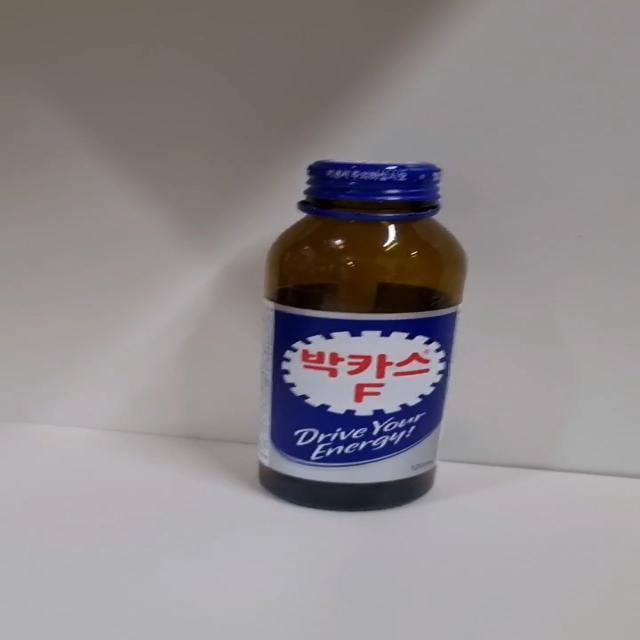Glass: (256, 160, 469, 514)
